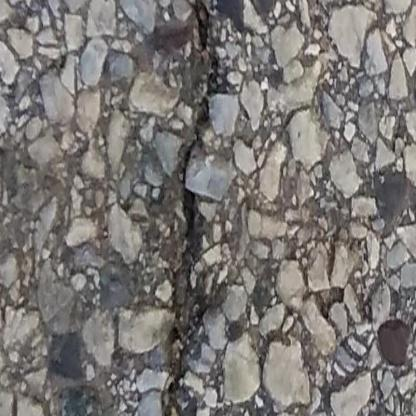Cracks: (165, 0, 221, 416)
